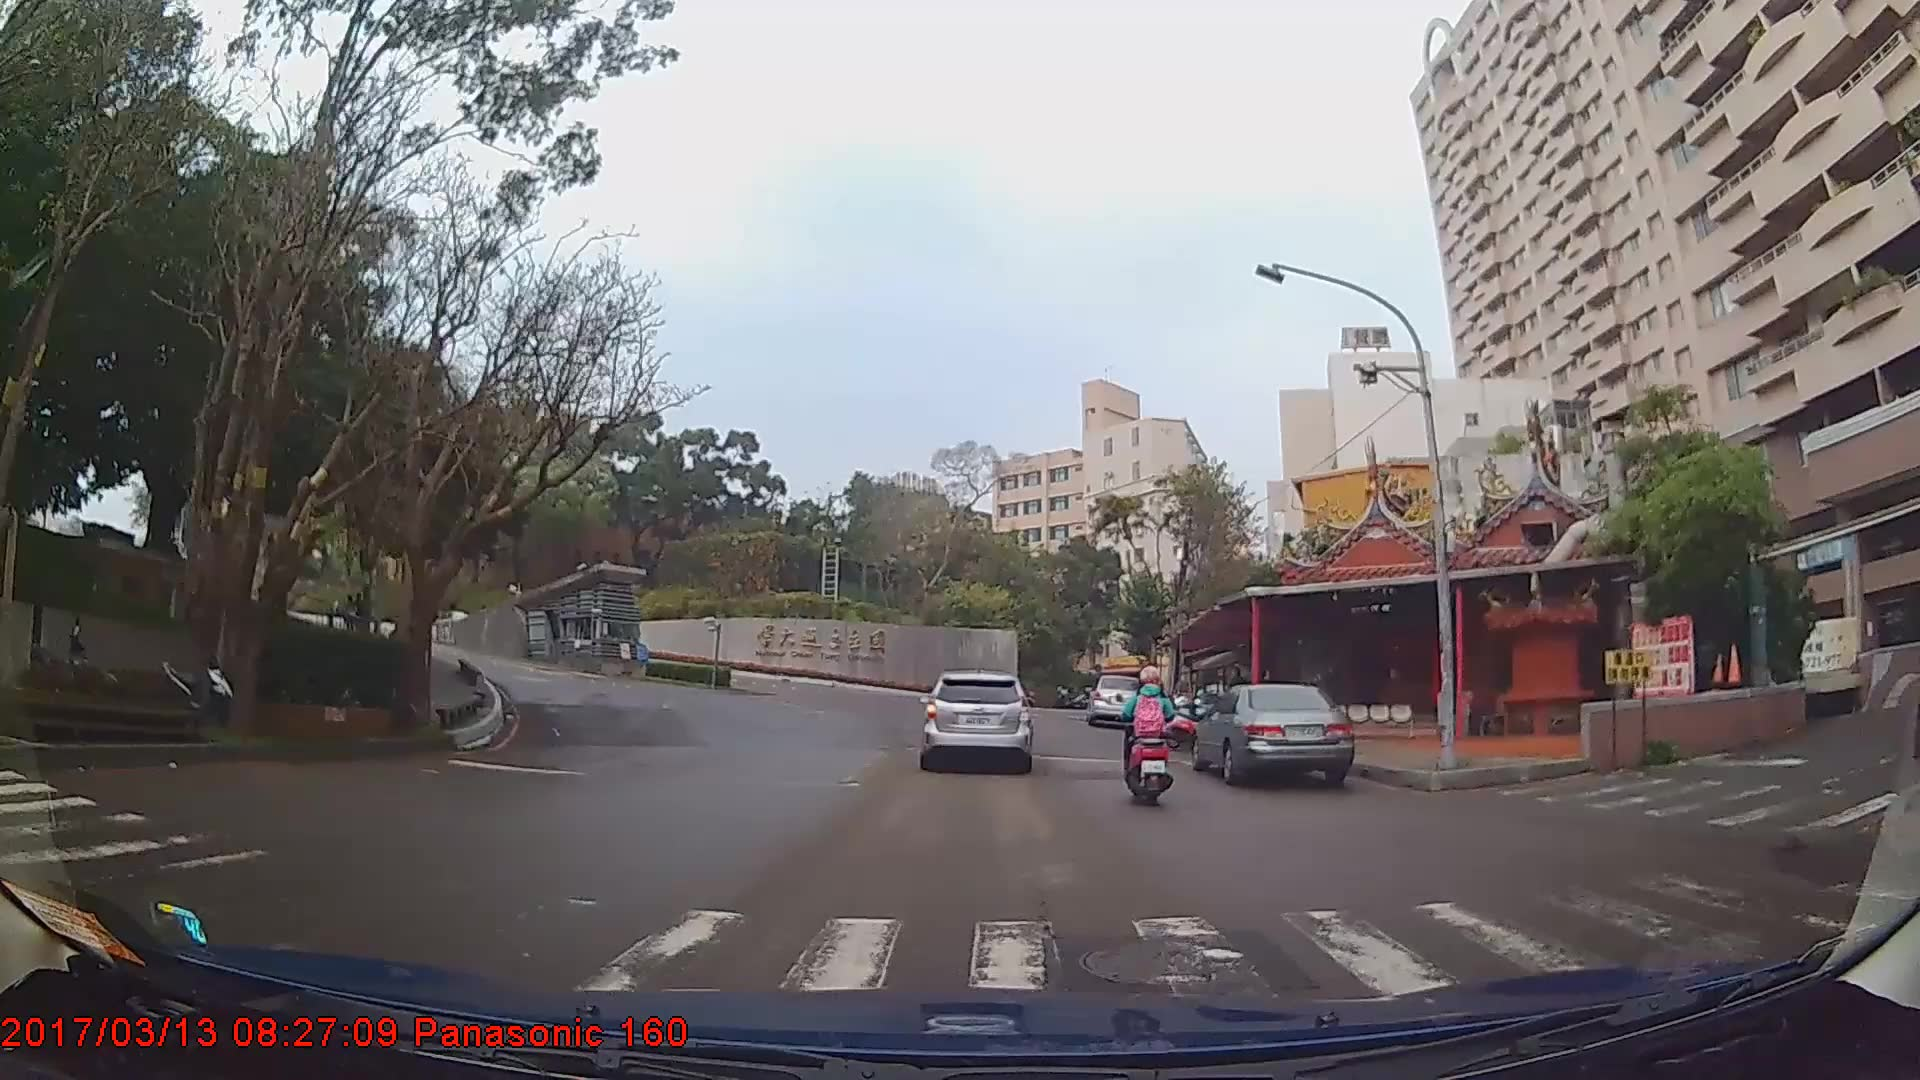rider: (1120, 663, 1183, 813)
vehicle: (1188, 684, 1354, 790), (919, 670, 1031, 773), (1086, 673, 1140, 725)
